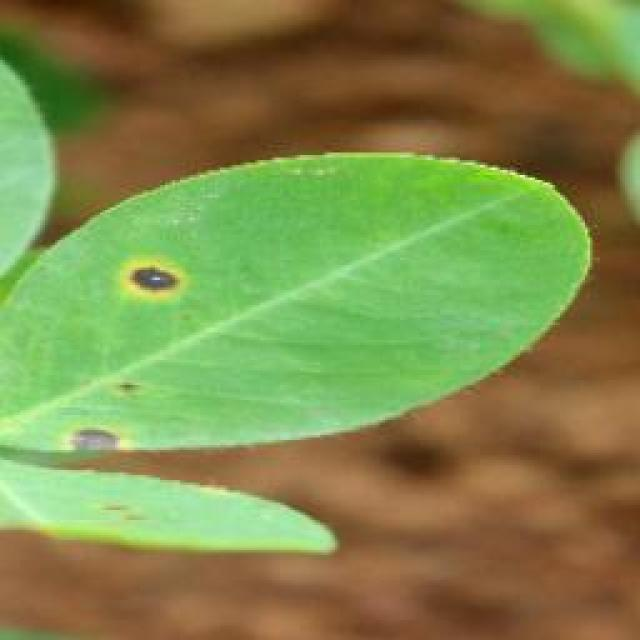Sigatoka: (63, 372, 163, 451), (119, 244, 195, 328), (82, 485, 165, 555)
